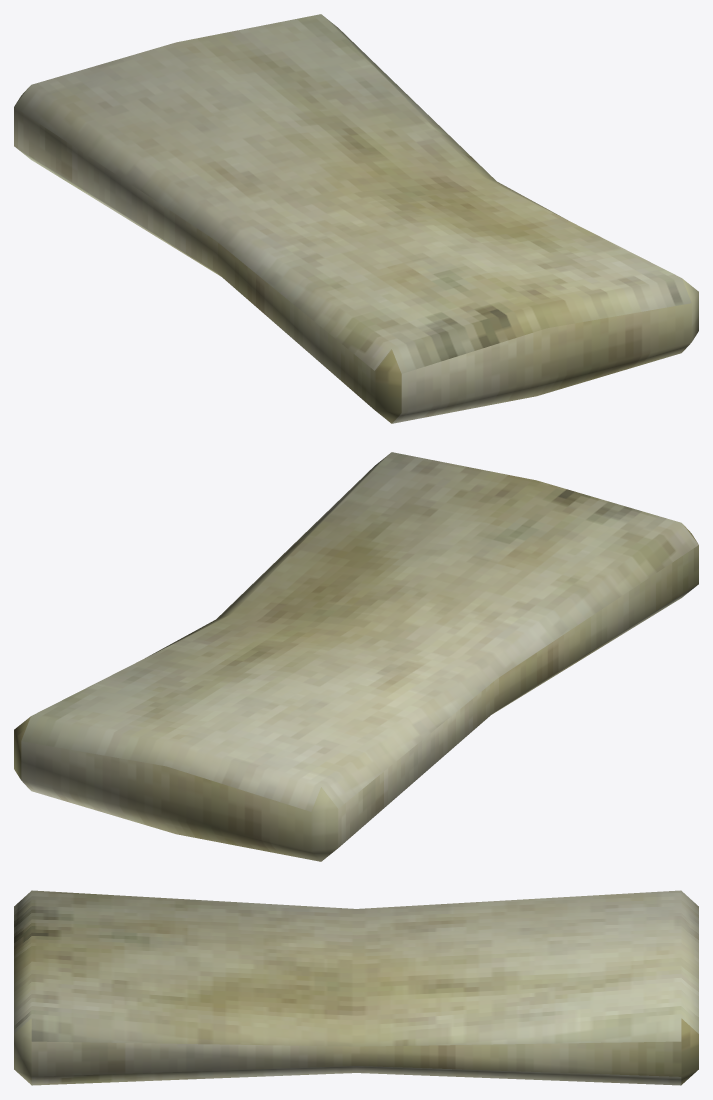
Rendered from _Pillow_1.FBX.
3 renders of one model, top to bottom at view 1: azimuth 30°, elevation 25°; view 2: azimuth 150°, elevation 25°; view 3: azimuth 270°, elevation 25°, orthographic. The views are drawn at different scales.
Visible parts, largest first — view 1: _Pillow_1; view 2: _Pillow_1; view 3: _Pillow_1.
Boxes of the visible parts, x1=… form: _Pillow_1: x1=14, y1=14, x2=698, y2=423; _Pillow_1: x1=14, y1=452, x2=698, y2=861; _Pillow_1: x1=14, y1=890, x2=698, y2=1085.
Size of the model in its own units: 28.41 by 7.52 by 57.72.
Materials: 1 (1 with a texture image).
